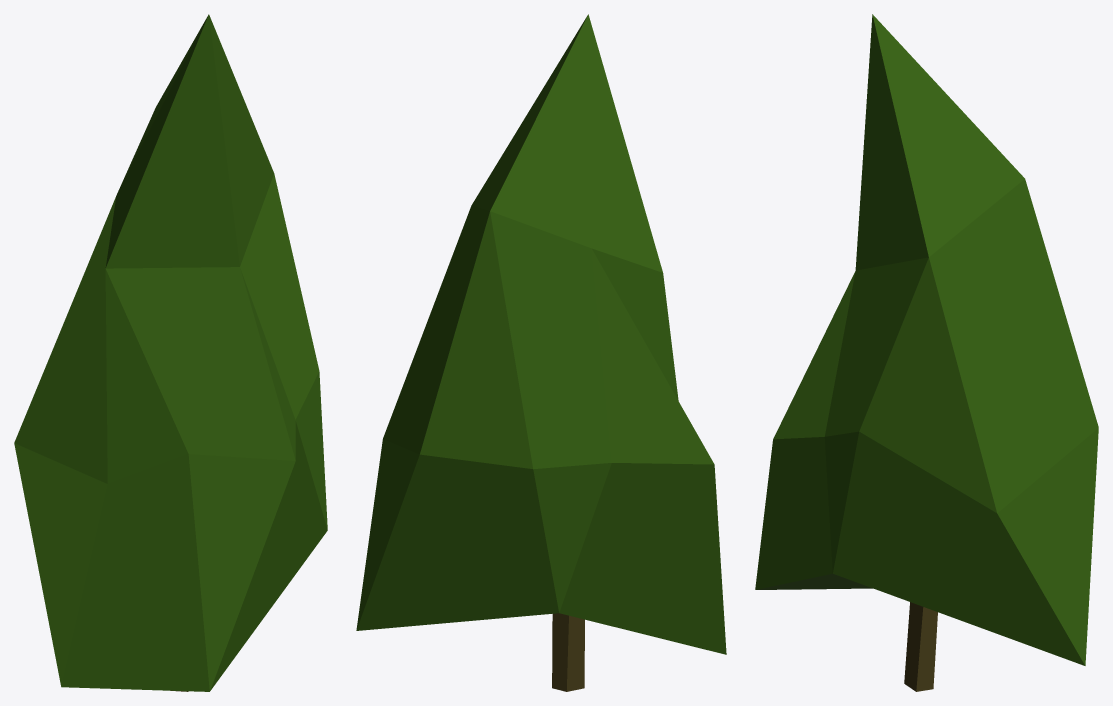
Rendered from TreeAutumn8.fbx.
3 views of the same model, side by side, from view 1: azimuth 30°, elevation 25°; view 2: azimuth 150°, elevation 25°; view 3: azimuth 270°, elevation 25° (orthographic). The views are drawn at different scales.
Parts seen in each view (by area): view 1: TreeAutumn8; view 2: TreeAutumn8; view 3: TreeAutumn8.
Boxes of the visible parts, x1,y1,x2,y2 form: TreeAutumn8: (14,14,327,691); TreeAutumn8: (356,14,726,691); TreeAutumn8: (755,14,1098,691).
Bounding box in the file's own units: 1.32 × 2.74 × 1.27.
